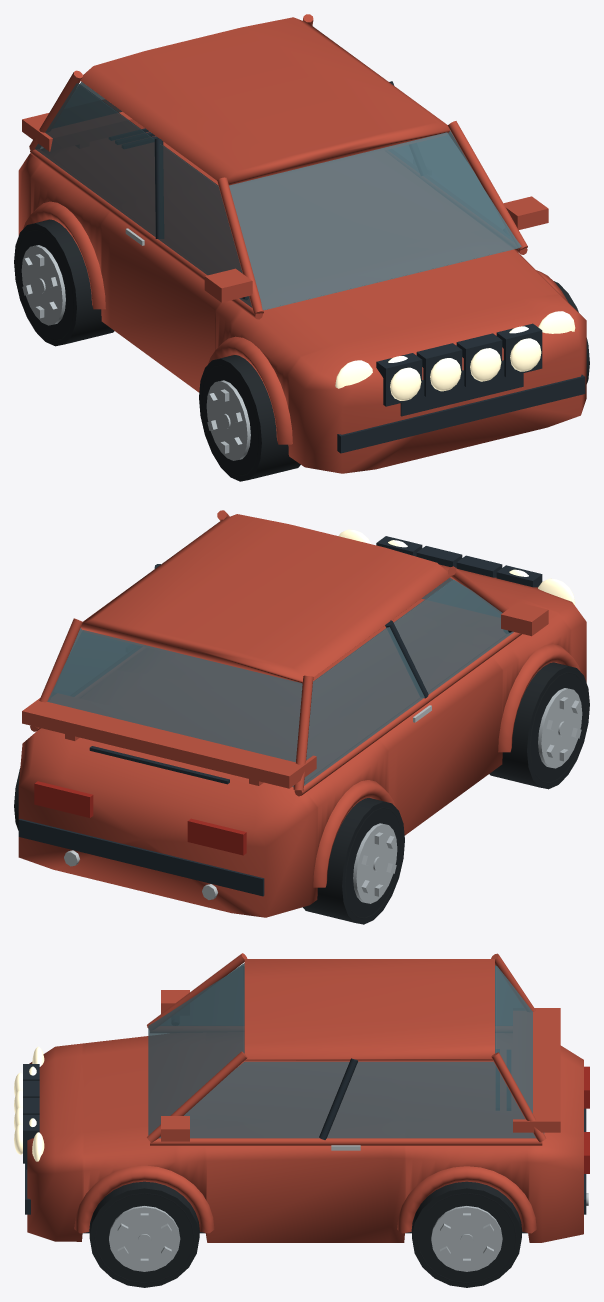
The model's file is delta.glb.
The picture shows the model from 3 angles, top to bottom: view 1: azimuth 30°, elevation 25°; view 2: azimuth 150°, elevation 25°; view 3: azimuth 270°, elevation 25°; orthographic projection. The views are drawn at different scales.
Visible parts, largest first — view 1: exterior-paint, windows, black-trim, tire-front-left, tire-rear-left, headlights, rim-rear-left, rim-front-left; view 2: exterior-paint, windows, black-trim, tire-rear-left, tire-front-left, taillights, rim-front-left, rim-rear-left, headlights, chrome; view 3: exterior-paint, windows, tire-front-right, tire-rear-right, rim-front-right, rim-rear-right, black-trim, headlights, taillights.
Part boxes in pixels (left/top/right/bottom): exterior-paint: left=18, top=14, right=586, bottom=473; windows: left=35, top=81, right=521, bottom=310; black-trim: left=110, top=81, right=585, bottom=453; tire-front-left: left=199, top=355, right=300, bottom=481; tire-rear-left: left=14, top=219, right=114, bottom=346; headlights: left=335, top=311, right=575, bottom=400; rim-rear-left: left=21, top=245, right=65, bottom=325; rim-front-left: left=206, top=380, right=250, bottom=460; exterior-paint: left=18, top=510, right=586, bottom=917; windows: left=47, top=578, right=513, bottom=787; black-trim: left=18, top=536, right=542, bottom=896; tire-rear-left: left=303, top=798, right=404, bottom=924; tire-front-left: left=489, top=662, right=589, bottom=789; taillights: left=34, top=781, right=246, bottom=855; rim-front-left: left=538, top=688, right=582, bottom=768; rim-rear-left: left=353, top=823, right=397, bottom=903; headlights: left=338, top=529, right=575, bottom=605; chrome: left=64, top=705, right=431, bottom=899; exterior-paint: left=27, top=953, right=583, bottom=1242; windows: left=148, top=963, right=544, bottom=1138; tire-front-right: left=89, top=1181, right=199, bottom=1287; tire-rear-right: left=412, top=1181, right=521, bottom=1287; rim-front-right: left=109, top=1206, right=180, bottom=1271; rim-rear-right: left=431, top=1206, right=502, bottom=1271; black-trim: left=23, top=1053, right=586, bottom=1233; headlights: left=14, top=1046, right=44, bottom=1161; taillights: left=584, top=1066, right=589, bottom=1173.
Bounding box in the file's own units: 1.89 × 1.32 × 3.15.
